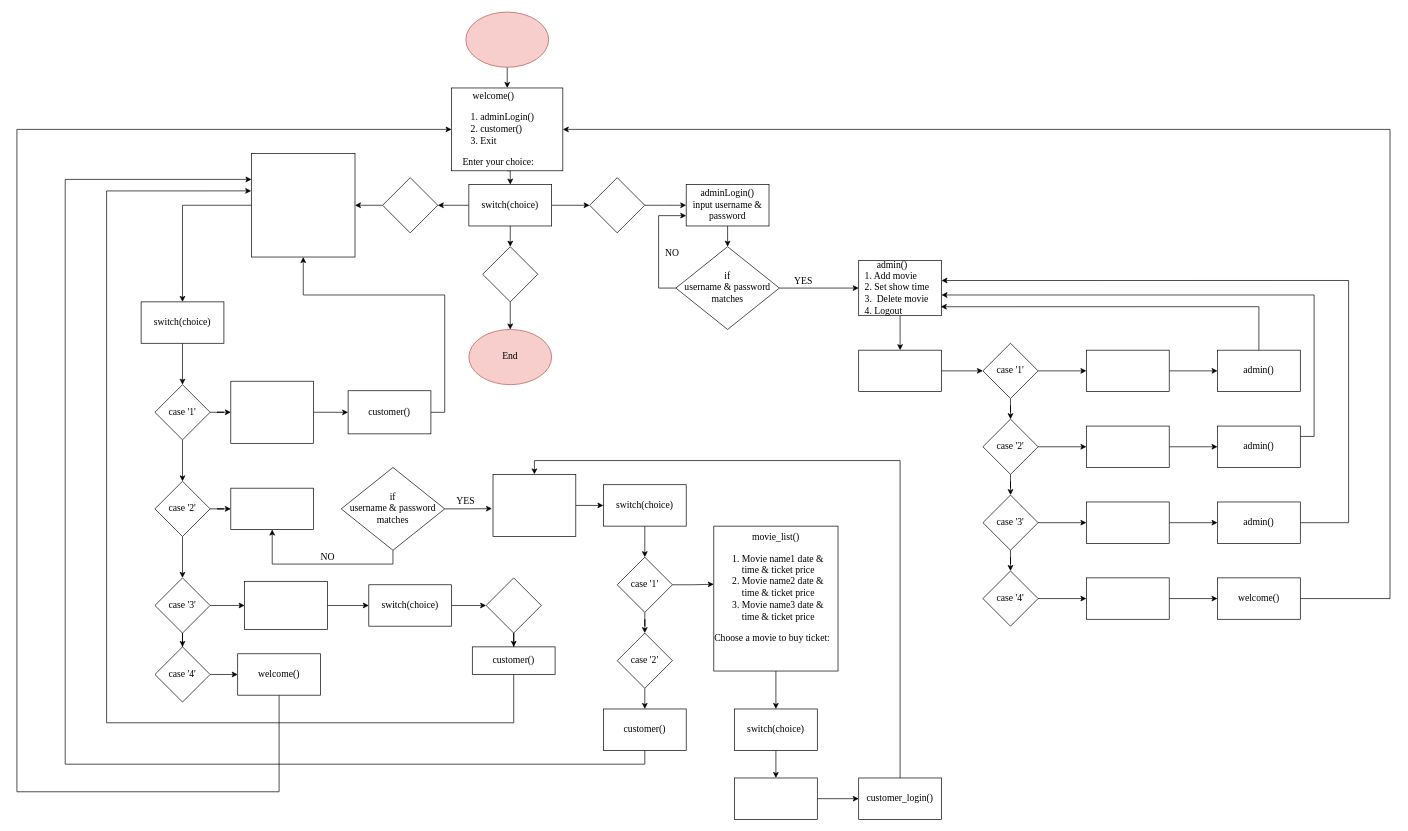
The diagram is 1408 pixels wide and 831 high, and some of its shapes have lost their labels. Here are the shapes that lost their labels. From the top down, the centre of each, then its label:
point (507, 39): Start
point (303, 205): customer() Sign up Log in browse movies exit as customer
point (410, 205): case 2:
point (617, 205): case 1:
point (510, 274): case 3:
point (900, 370): switch (choice)
point (1127, 370): add_movie()
point (272, 412): sign_up() first name last name username password
point (1127, 446): set_show_time()
point (272, 508): log_in() username password
point (534, 505): customer_login() Movie List Log out
point (1127, 522): delete_movie()
point (285, 605): browse_movies() movie name + date) 0. Exit
point (513, 605): case 0
point (1127, 598): logout()
point (775, 798): buy_ticket()
